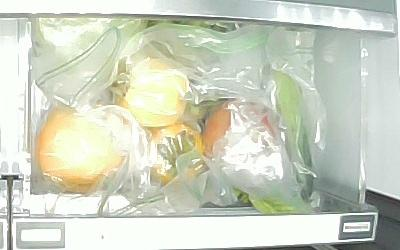apple_vinyl: (201, 102, 277, 160)
cucumber_vinyl: (274, 72, 314, 202)
grapefruit_vinyl: (39, 107, 128, 195)
paprika_vinyl: (116, 60, 190, 129)
persimmon_vinyl: (148, 124, 206, 184)
